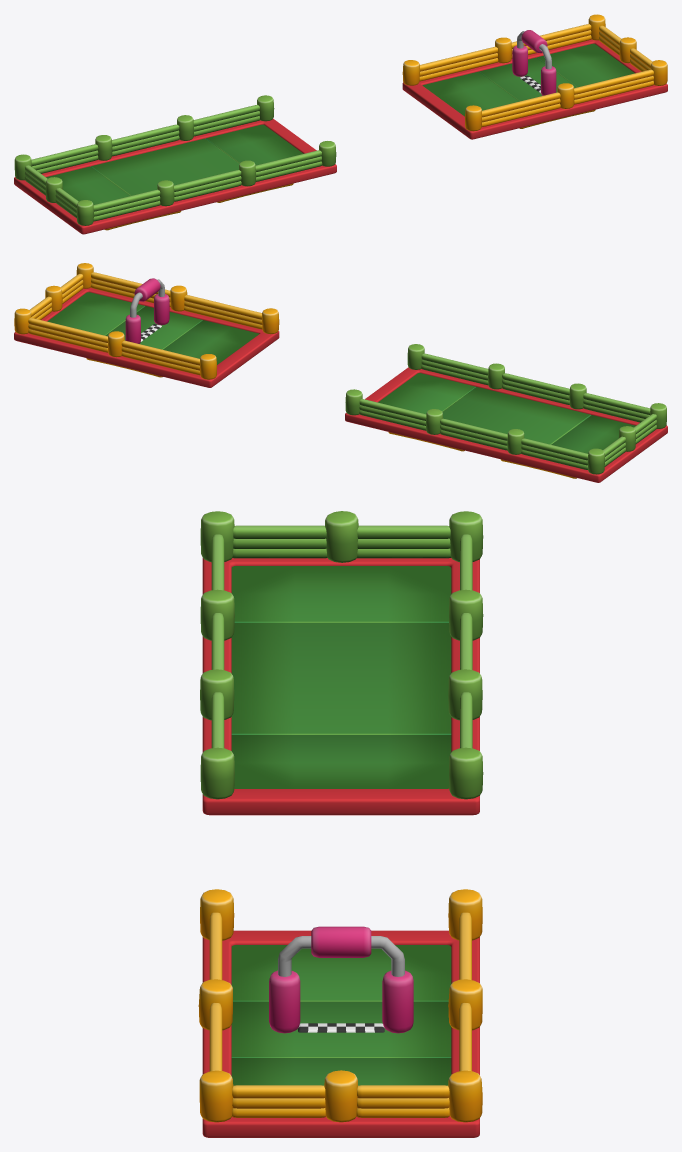
3 renders of one model, top to bottom at view 1: azimuth 30°, elevation 25°; view 2: azimuth 150°, elevation 25°; view 3: azimuth 270°, elevation 25°, orthographic. The views are drawn at different scales.
Parts seen in each view (by area): view 1: Part4; view 2: Part4; view 3: Part4.
Boxes of the visible parts, <box> form: Part4: <box>14,14,667,234</box>; Part4: <box>14,263,667,482</box>; Part4: <box>198,511,483,1137</box>.
Bounding box in the file's own units: 61.26 × 7.1 × 12.82.
1 material, 1 textured.
